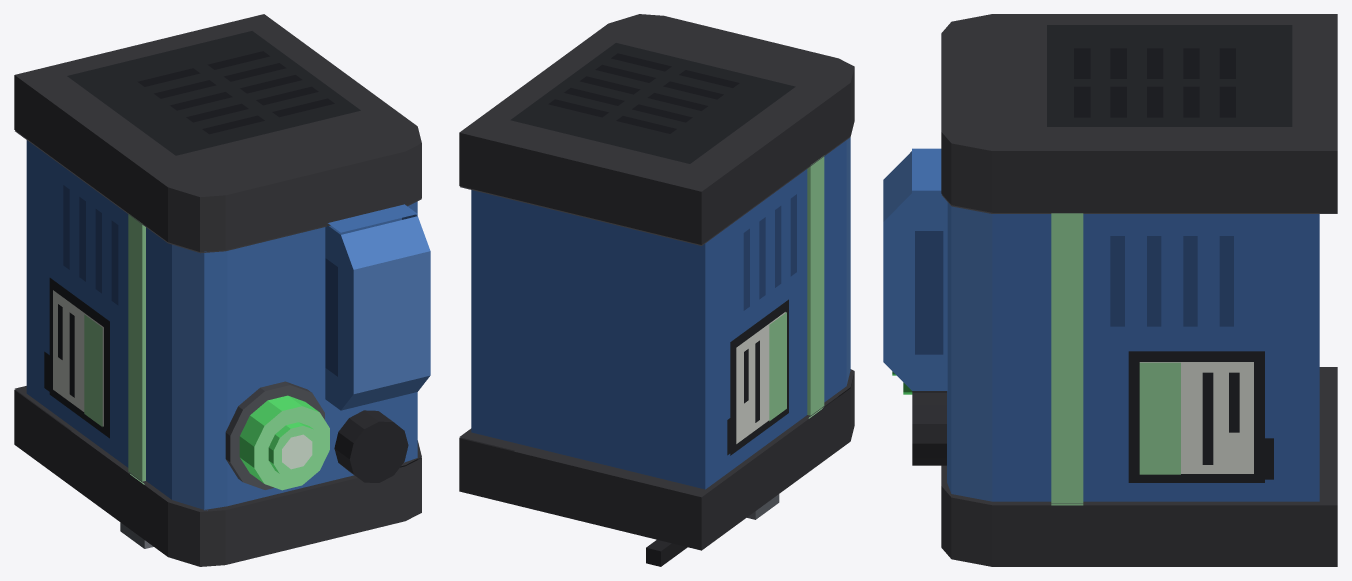
Rendered from backup_ground_valutech_on_W.obj.
The picture shows the model from 3 angles, left to right: view 1: azimuth 30°, elevation 25°; view 2: azimuth 150°, elevation 25°; view 3: azimuth 270°, elevation 25°; orthographic projection. The views are drawn at different scales.
Parts seen in each view (by area): view 1: backup_ground_valutech_on_W; view 2: backup_ground_valutech_on_W; view 3: backup_ground_valutech_on_W.
Boxes of the visible parts, left/top/right/bottom form: backup_ground_valutech_on_W: left=14, top=14, right=430, bottom=566; backup_ground_valutech_on_W: left=459, top=14, right=854, bottom=566; backup_ground_valutech_on_W: left=883, top=14, right=1337, bottom=566.
Size of the model in its own units: 0.357 by 0.561 by 0.5.
Materials: 1 (1 with a texture image).
